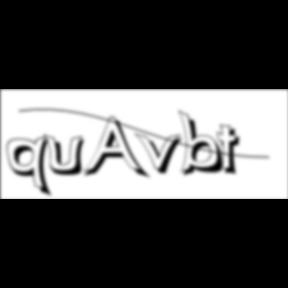A: (82, 116, 152, 182)
b: (178, 109, 231, 179)
q: (7, 135, 56, 200)
t: (216, 124, 248, 179)
u: (44, 132, 92, 178)
v: (135, 131, 189, 177)
